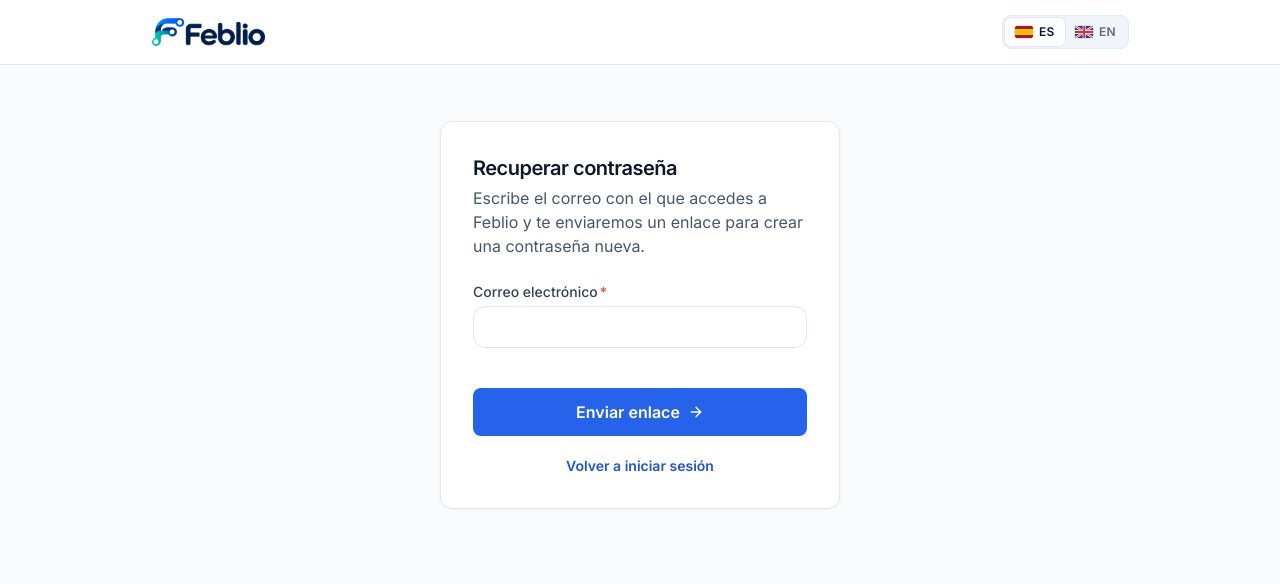
Test: <ForgotPasswordPage /> › el límite de intentos se muestra como error accesible
This screenshot has width=1280, height=584.
Type "laura@norte.es" into the field labelled "Correo electrónico*" at x=640, y=327, box x1=473 y1=306 x2=807 y2=348
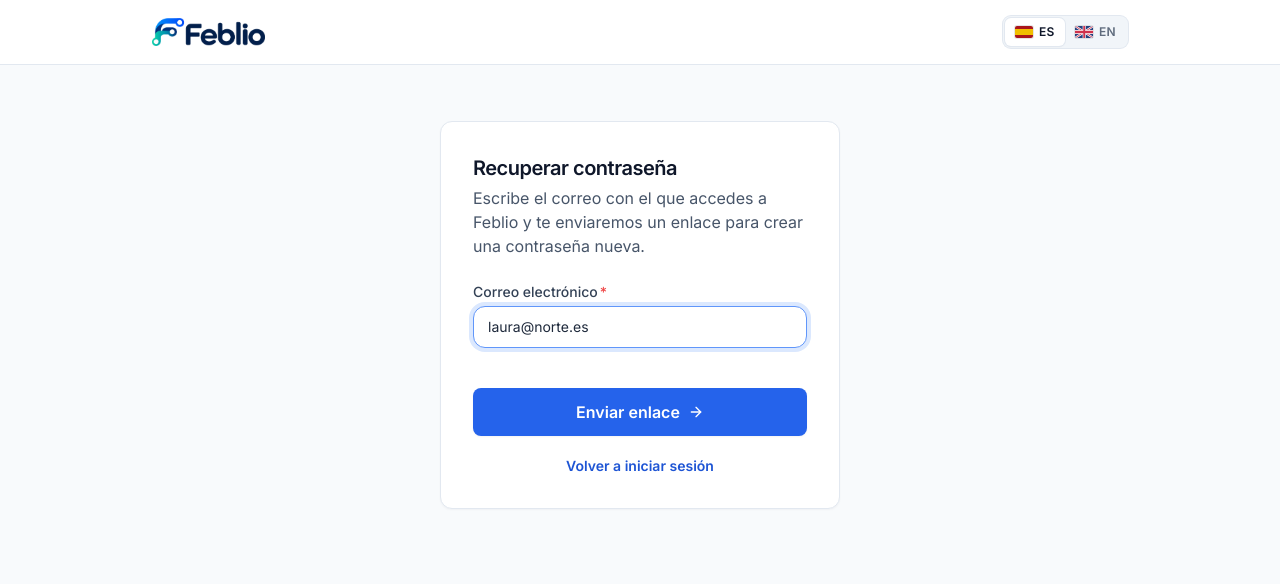
Click the button "Enviar enlace" at x=640, y=412, box x1=473 y1=388 x2=807 y2=436
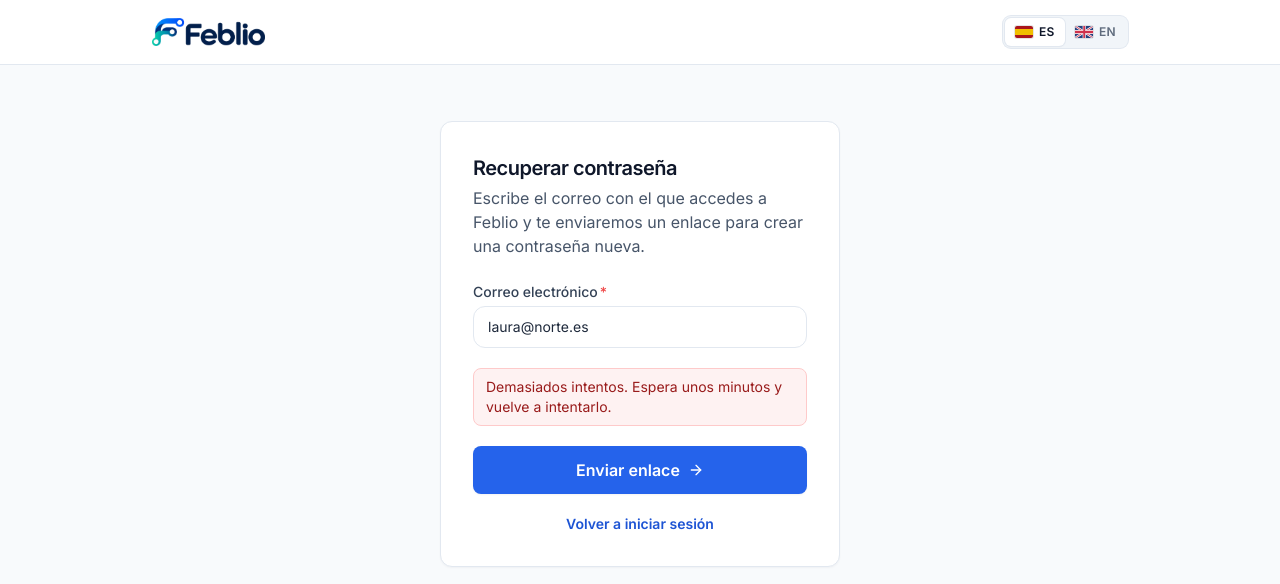
Expected: the message shows "Demasiados intentos", x1=486 y1=378 x2=782 y2=415
